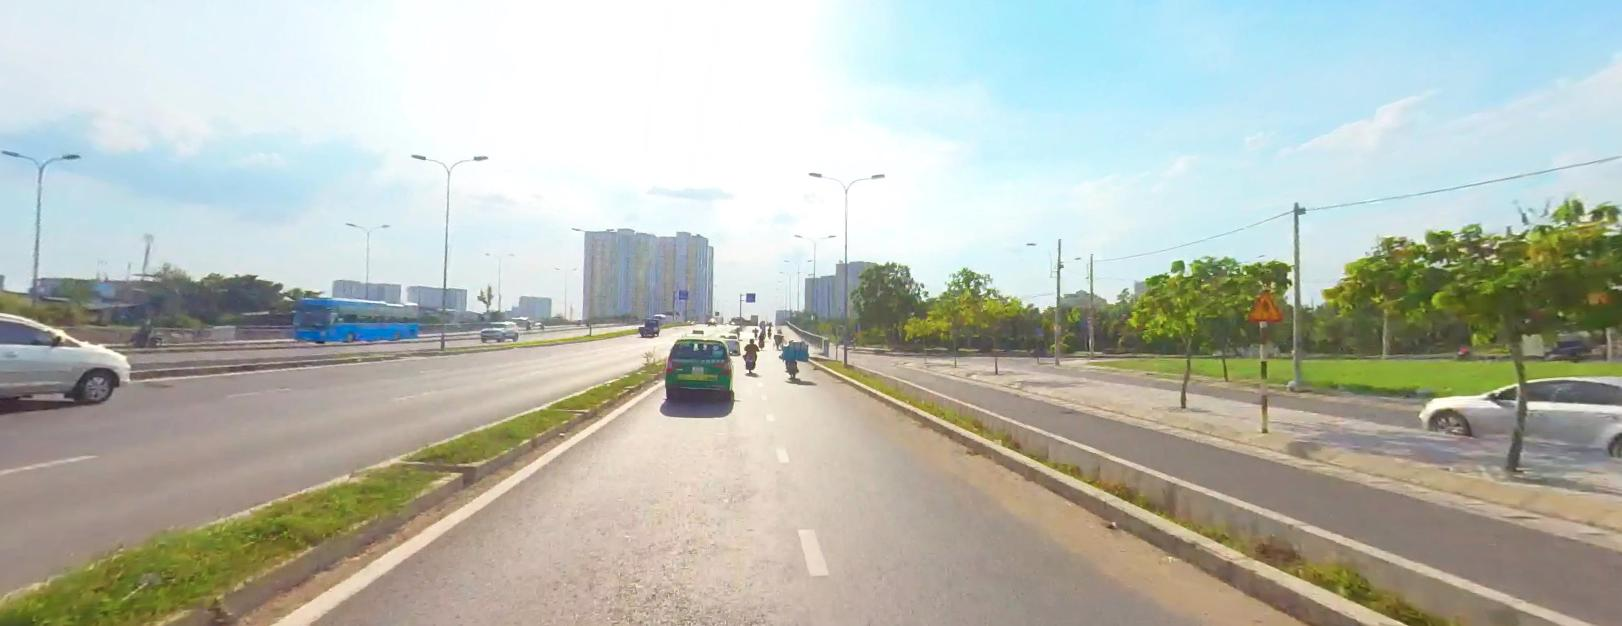Nguy hiem: (1246, 289, 1284, 321)
